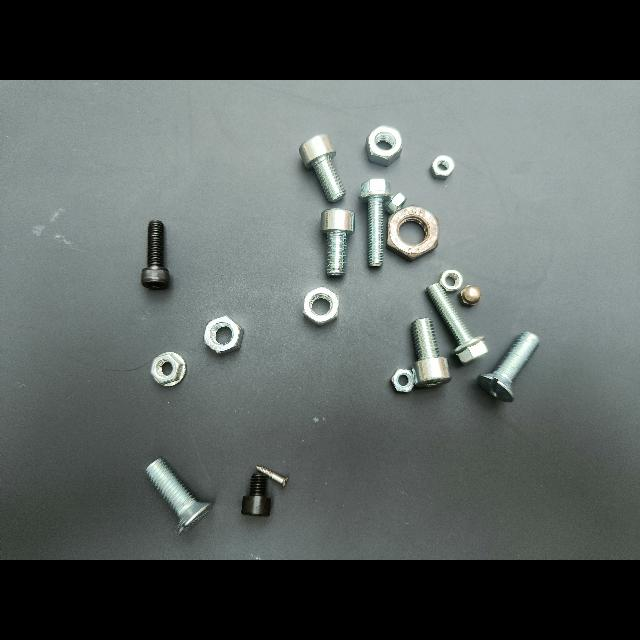bolt: (146, 458, 214, 534), (426, 282, 488, 364), (477, 332, 539, 402), (299, 134, 345, 202), (359, 178, 392, 267), (411, 318, 451, 387), (321, 208, 355, 277), (141, 220, 170, 290), (242, 471, 273, 517), (256, 464, 289, 488)
nuts: (387, 206, 438, 261), (204, 316, 244, 354), (365, 126, 402, 167), (304, 287, 339, 325), (150, 352, 186, 386), (390, 369, 417, 393), (430, 155, 455, 180), (438, 270, 463, 292), (384, 193, 406, 215), (458, 285, 481, 306)
